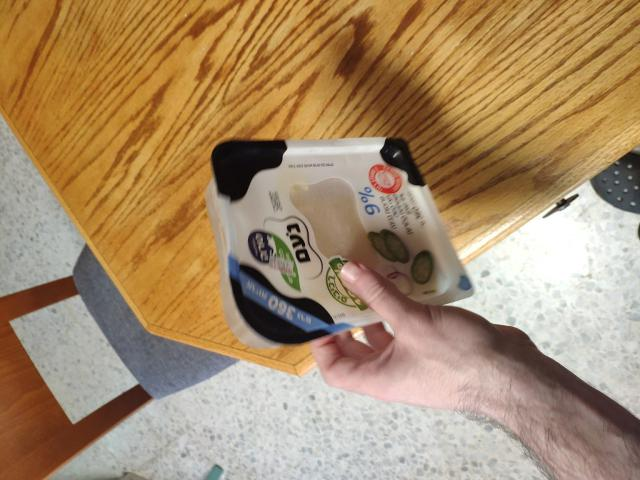cheese: (202, 157, 453, 312)
